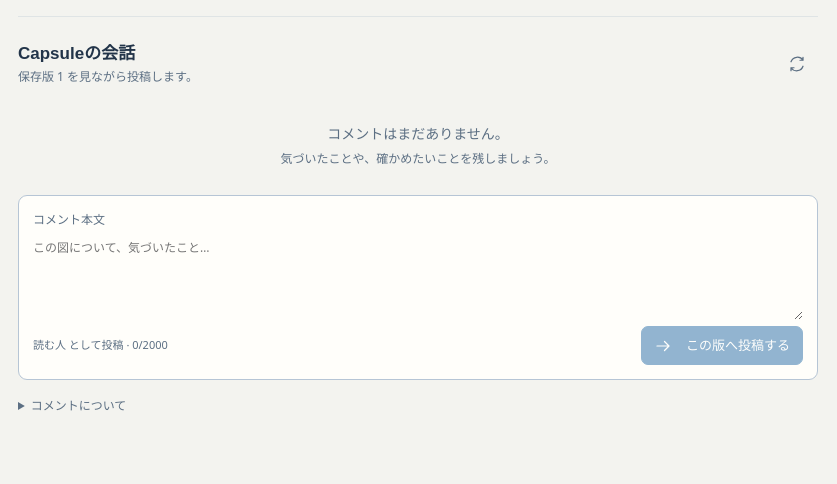
Test: 共有版の会話 › 通常の再確認・タブ復帰と通信失敗で入力とフォーカスを維持する
Expected: the text "コメントはまだありません。" is shown, [327,124,509,143]
Step 1. Type "続きを入力している" into the text box labelled "コメント本文" → [418, 275], box [33,230,803,320]
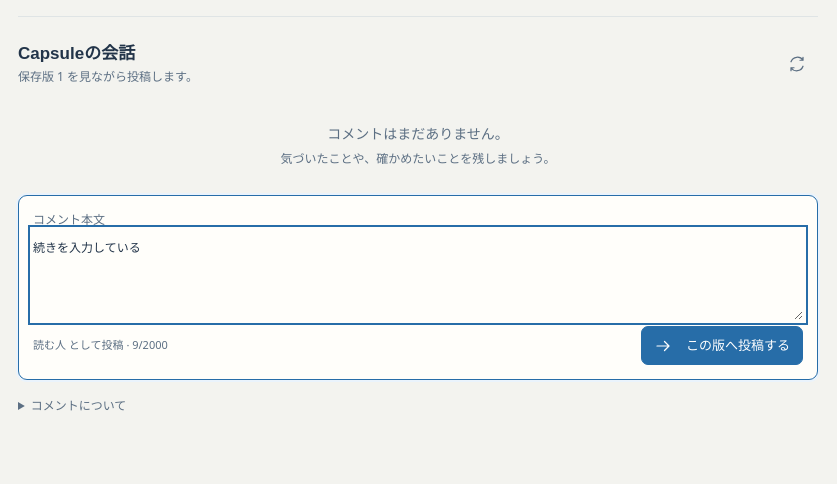
Step 2. Click the button named "コメントとログインを再確認" → [800, 64], box [782,46,818,82]
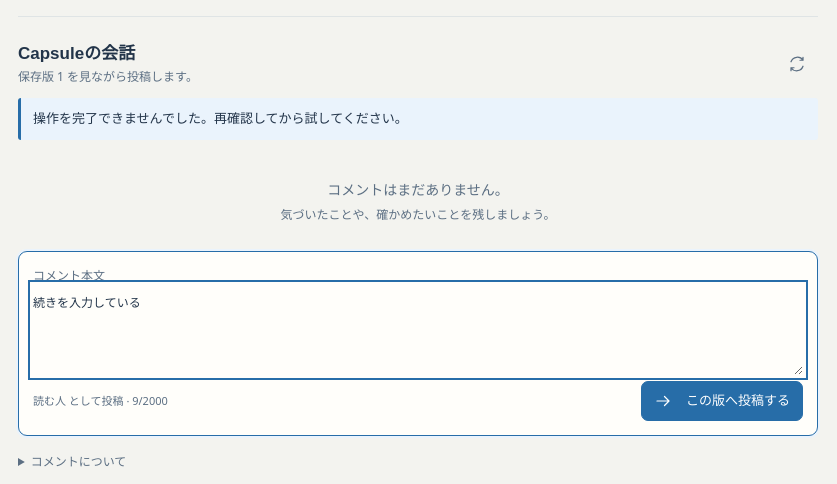
Expected: the text box labelled "コメント本文" is enabled, [33,285,803,375]
Expected: the message "操作を完了できませんでした。再確認してから試してください。" is shown, [18,98,818,140]
